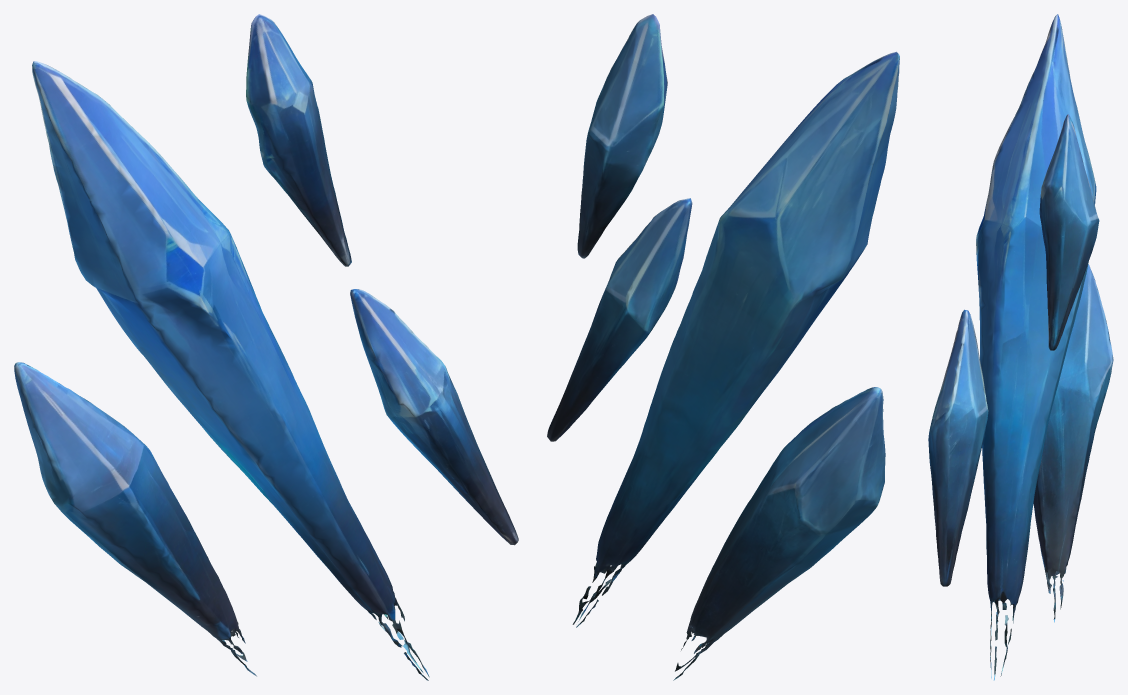
The model's file is proj_ice.glb.
The picture shows the model from 3 angles, left to right: view 1: azimuth 30°, elevation 25°; view 2: azimuth 150°, elevation 25°; view 3: azimuth 270°, elevation 25°; orthographic projection. The views are drawn at different scales.
Visible parts, largest first — view 1: Ice attack; view 2: Ice attack; view 3: Ice attack.
Part boxes in pixels (box(x1,y1,x2,y2)): Ice attack: box(14, 14, 518, 680); Ice attack: box(547, 14, 899, 680); Ice attack: box(928, 14, 1113, 680).
Size of the model in its own units: 1.24 by 1.93 by 0.6096.
Materials: 1 (1 with a texture image).
